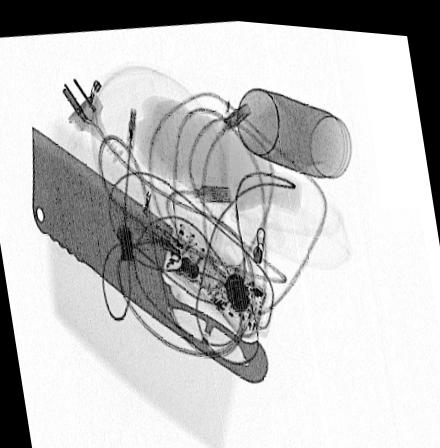Knife: (30, 122, 270, 378)
